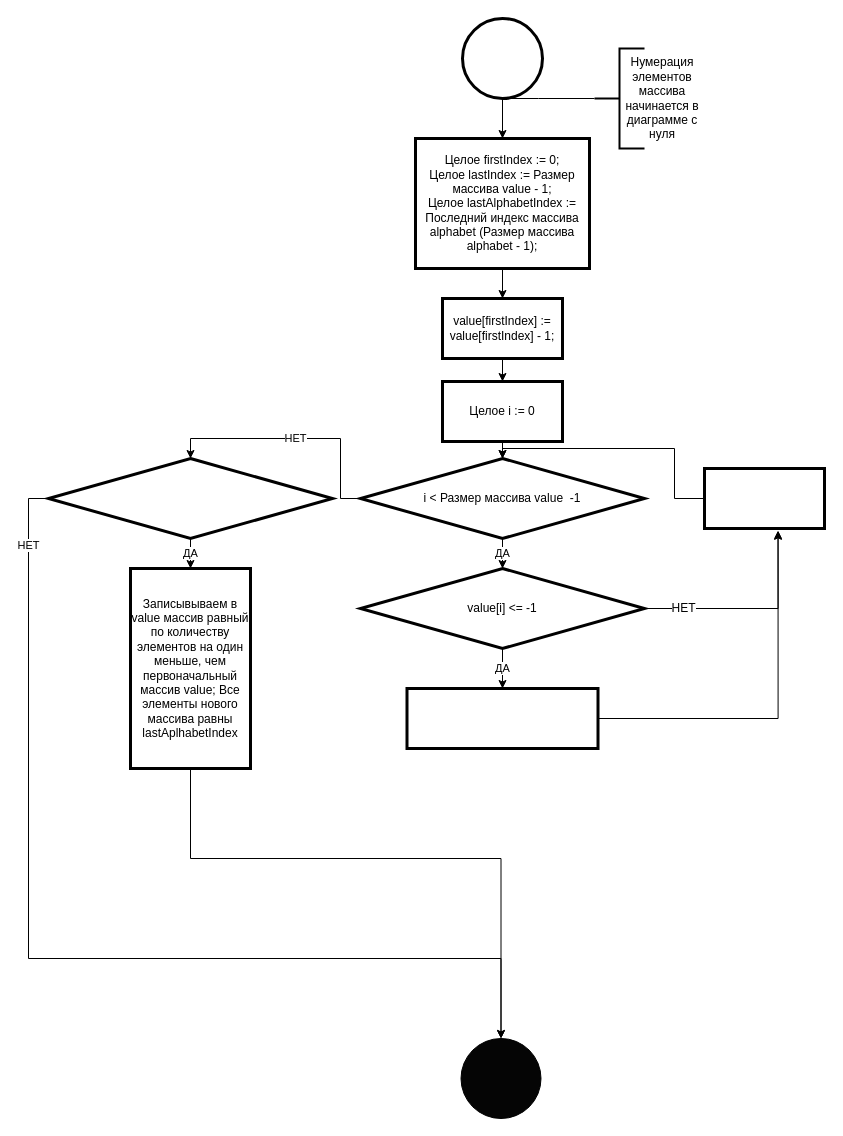
Image size: 843x1136. Some labels were removed from this diagram. The shapes that lost their labels are listed below. From the top down, each one's centre as x and y in pixels, then its label:
At (190,498): "value[lastIndex] < 0".
At (764,498): "i := i +1".
At (502,718): "value[i] := lastAlphabetIndex; value[i+1] := value[i+1] - 1".
